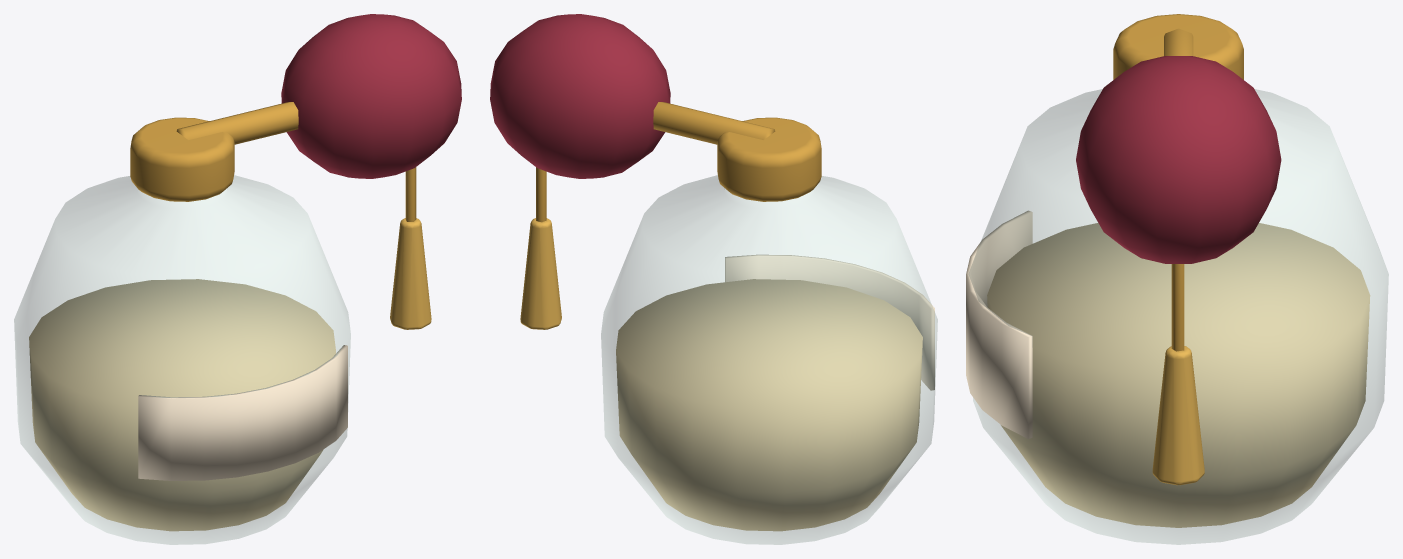
File: perfume-bottle-atomizer.glb
3 renders of one model, left to right at view 1: azimuth 30°, elevation 25°; view 2: azimuth 150°, elevation 25°; view 3: azimuth 270°, elevation 25°, orthographic. The views are drawn at different scales.
Parts seen in each view (by area): view 1: perfume-bottle-atomizer; view 2: perfume-bottle-atomizer; view 3: perfume-bottle-atomizer.
Part boxes in pixels (<box>): perfume-bottle-atomizer: <box>14,14,461,544</box>; perfume-bottle-atomizer: <box>490,14,937,544</box>; perfume-bottle-atomizer: <box>966,14,1388,544</box>.
Size of the model in its own units: 0.1277 by 0.126 by 0.0905.
